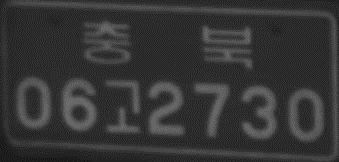0: (287, 86, 323, 142), (16, 75, 51, 128)
2: (147, 81, 186, 137)
3: (240, 86, 277, 140)
6: (61, 78, 98, 132)
7: (193, 82, 230, 138)
고: (103, 78, 142, 135)
충북_D: (81, 19, 254, 69)
